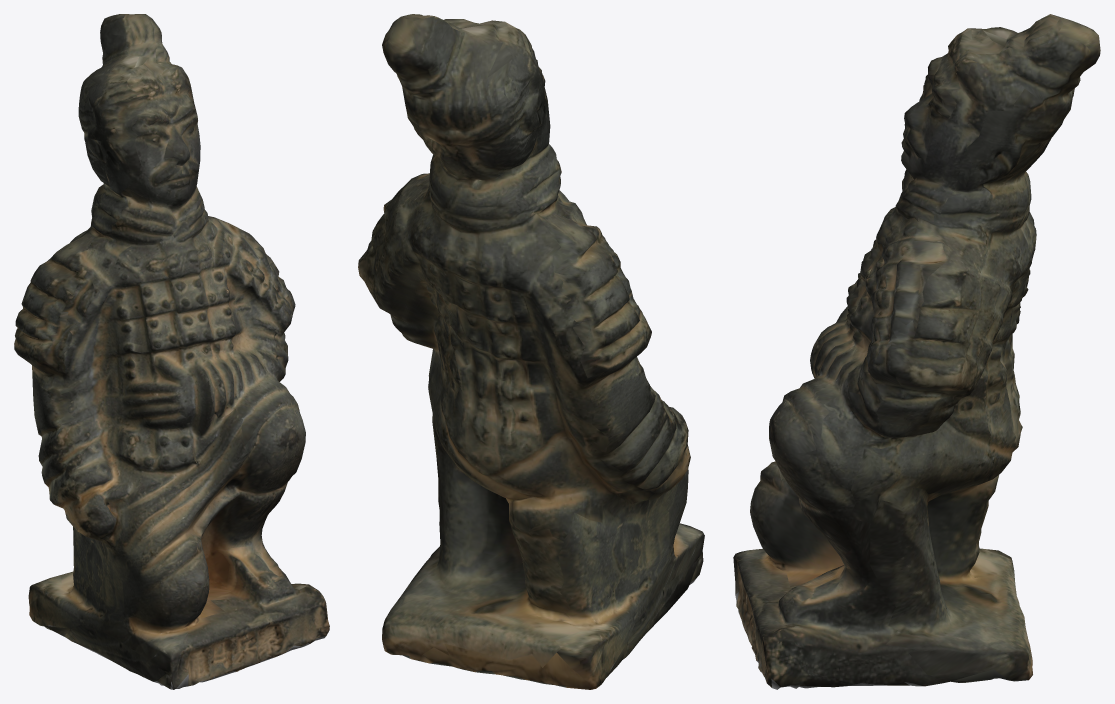
File: mdl_namo_krub_kneeling.gltf
3 views of the same model, side by side, from view 1: azimuth 30°, elevation 25°; view 2: azimuth 150°, elevation 25°; view 3: azimuth 270°, elevation 25° (orthographic). The views are drawn at different scales.
Parts seen in each view (by area): view 1: Object_2.001; view 2: Object_2.001; view 3: Object_2.001.
Boxes of the visible parts, left/top/right/bottom form: Object_2.001: left=14, top=14, right=329, bottom=689; Object_2.001: left=358, top=14, right=704, bottom=689; Object_2.001: left=733, top=14, right=1100, bottom=689.
Size of the model in its own units: 20.8 by 45.49 by 23.57.
Materials: 2 (2 with a texture image).
